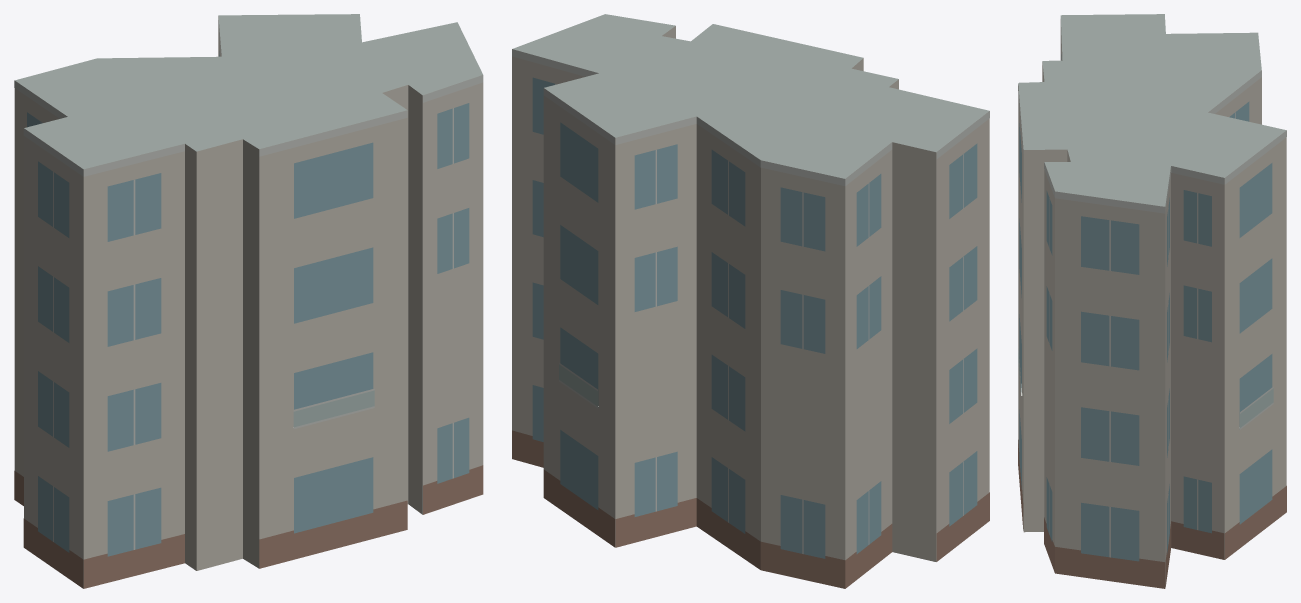
File: survey-upis-33029051.glb
3 views of the same model, side by side, from view 1: azimuth 30°, elevation 25°; view 2: azimuth 150°, elevation 25°; view 3: azimuth 270°, elevation 25° (orthographic). The views are drawn at different scales.
Parts seen in each view (by area): view 1: survey-upis-33029051.tmp; view 2: survey-upis-33029051.tmp; view 3: survey-upis-33029051.tmp.
Part boxes in pixels (box(x1,y1,x2,y2)): survey-upis-33029051.tmp: box(14, 14, 483, 588); survey-upis-33029051.tmp: box(512, 14, 989, 588); survey-upis-33029051.tmp: box(1018, 14, 1286, 588).
Bounding box in the file's own units: 14.73 × 13.6 × 8.68.
